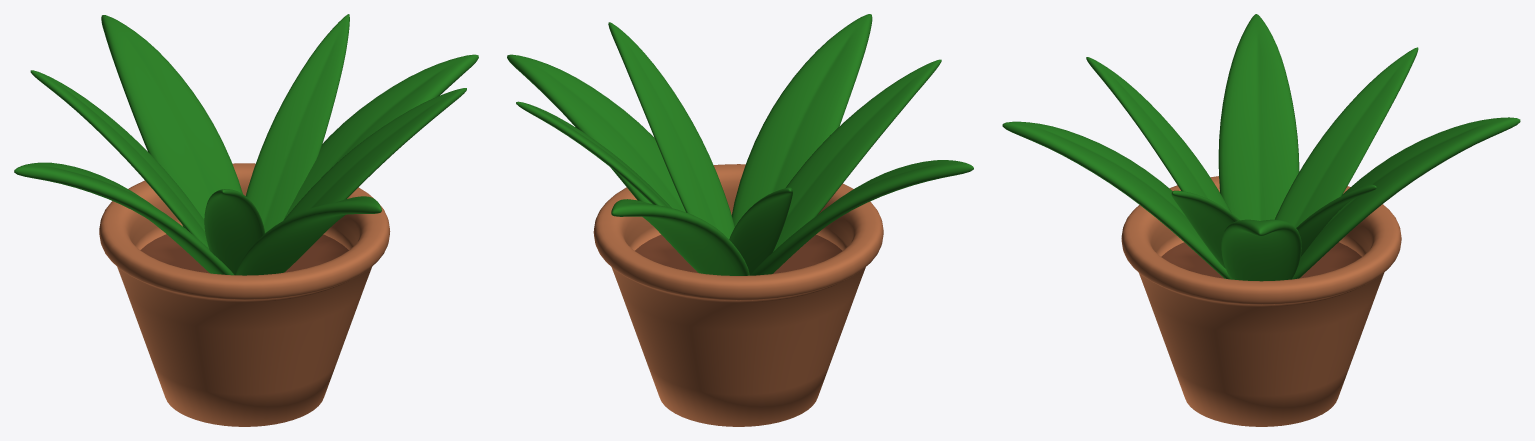
The model's file is PottedPlant.fbx.
3 views of the same model, side by side, from view 1: azimuth 30°, elevation 25°; view 2: azimuth 150°, elevation 25°; view 3: azimuth 270°, elevation 25° (orthographic). The views are drawn at different scales.
Parts seen in each view (by area): view 1: PlantPot; view 2: PlantPot; view 3: PlantPot.
Boxes of the visible parts, box(x1,y1,x2,y2) form: PlantPot: box(14, 14, 478, 426); PlantPot: box(507, 14, 973, 426); PlantPot: box(1002, 14, 1520, 426).
Bounding box in the file's own units: 0.5247 × 0.5246 × 0.3183.
